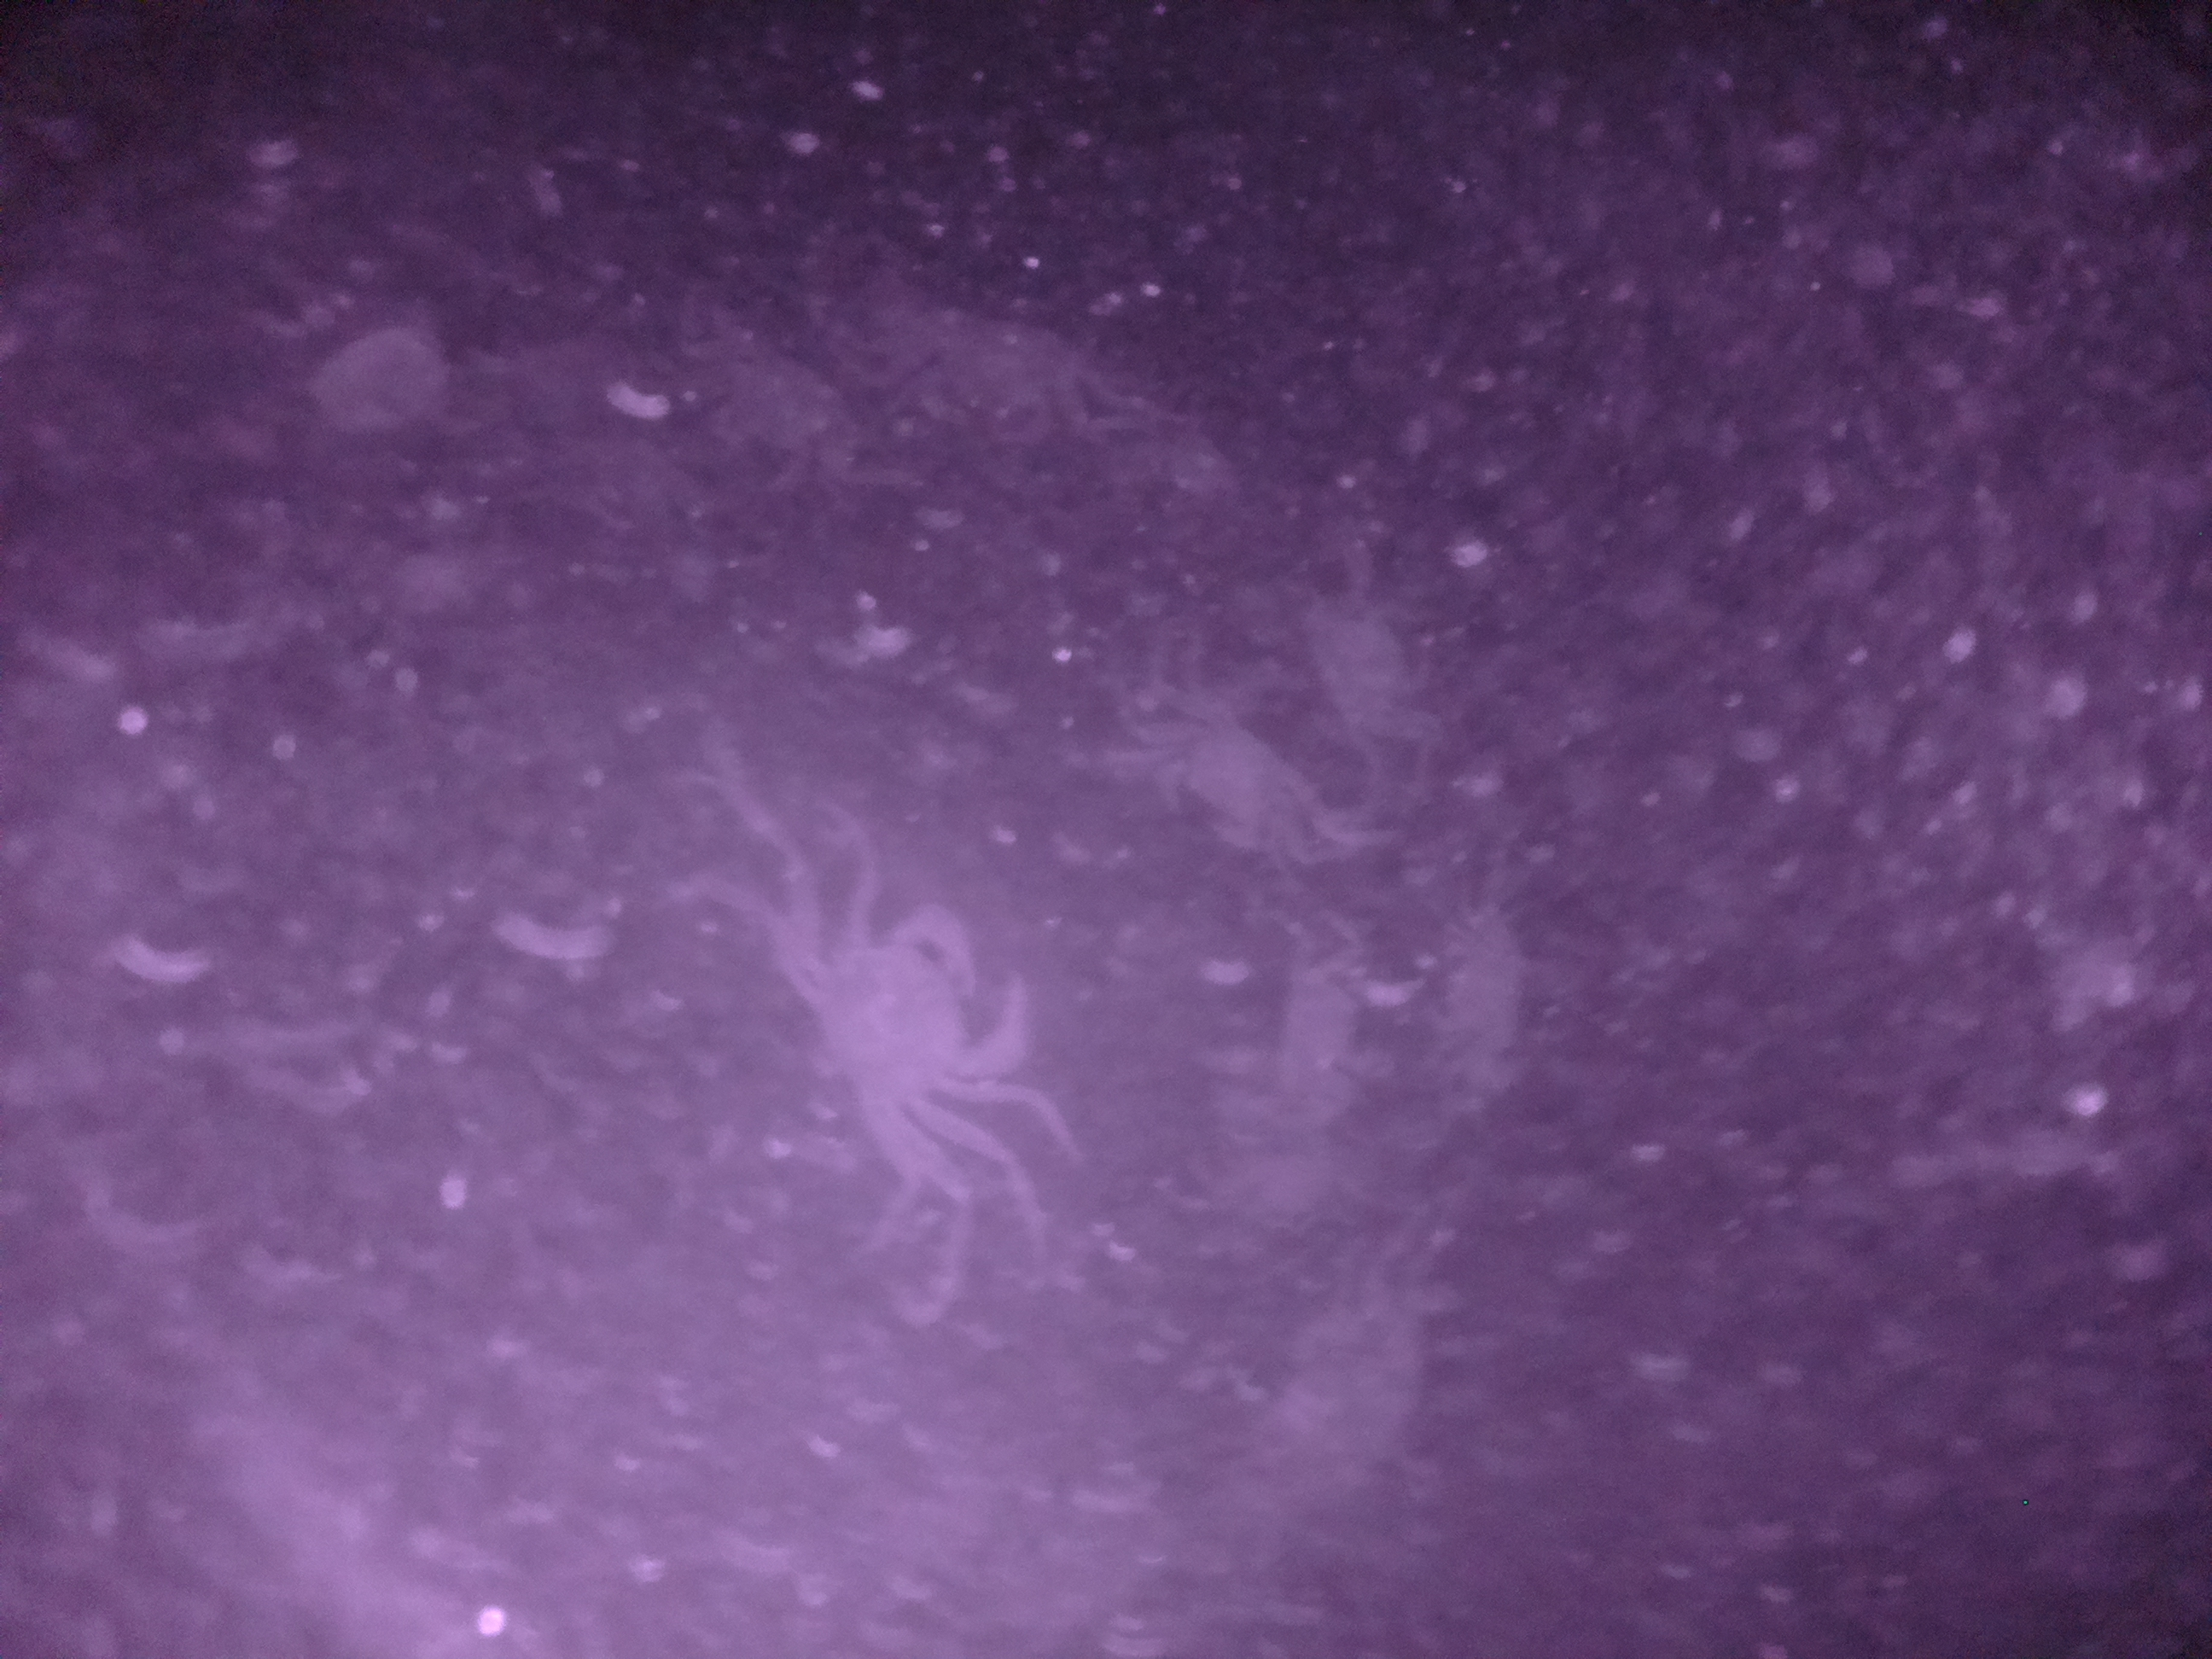Crab: (805, 884, 1042, 1161)
